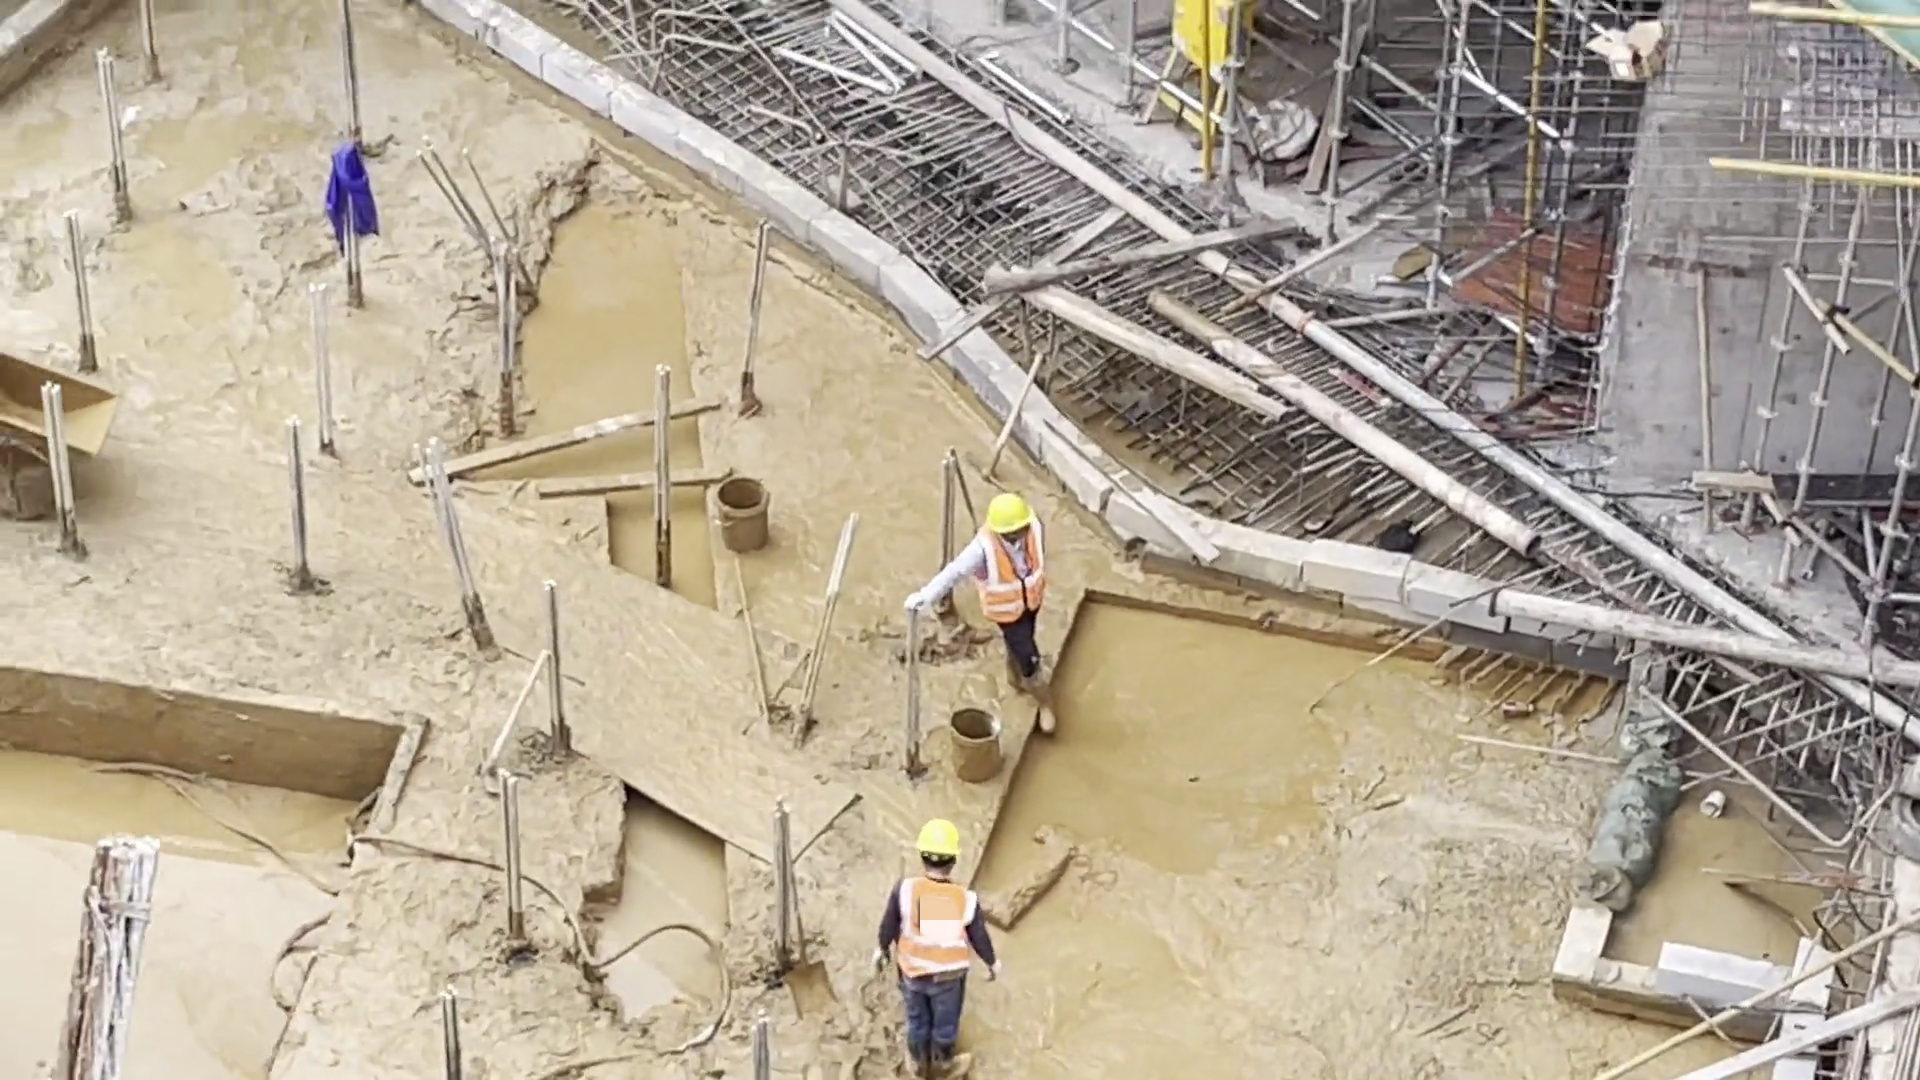helmet: (981, 493, 1036, 531), (918, 819, 963, 856)
person: (874, 812, 1003, 1080), (905, 486, 1054, 686)
vest: (897, 865, 981, 989), (978, 530, 1047, 630)
